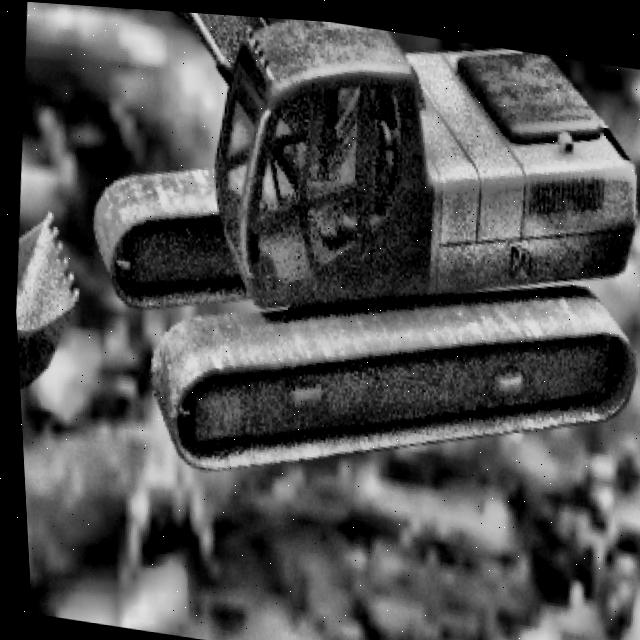excavator: (0, 0, 640, 526)
